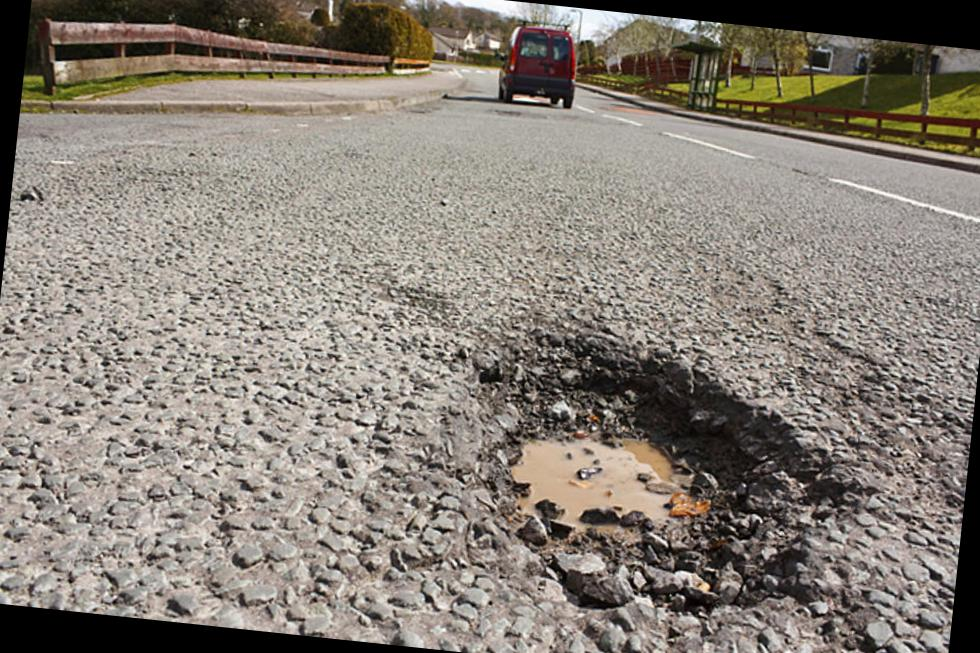pothole: (380, 258, 877, 653)
